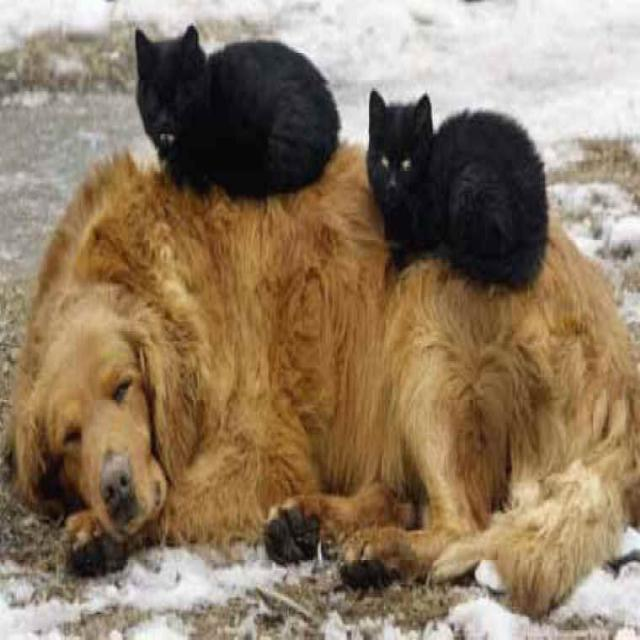cat: (122, 18, 573, 297)
dog: (15, 295, 194, 607)
